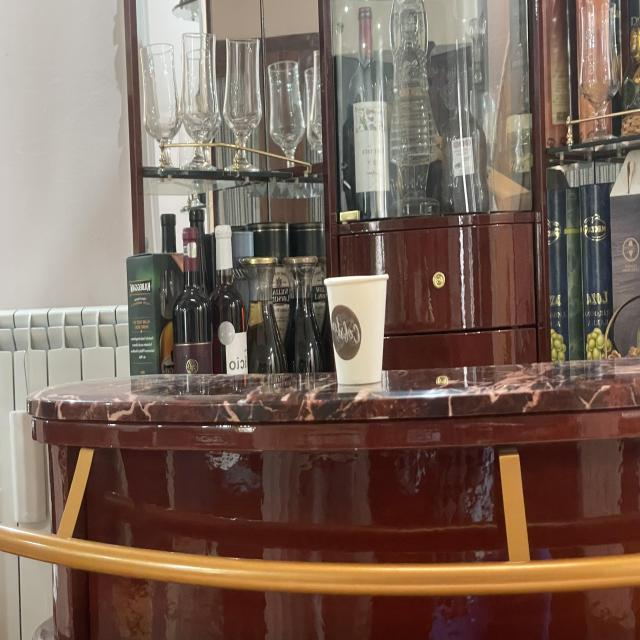medium: (320, 269, 397, 391)
